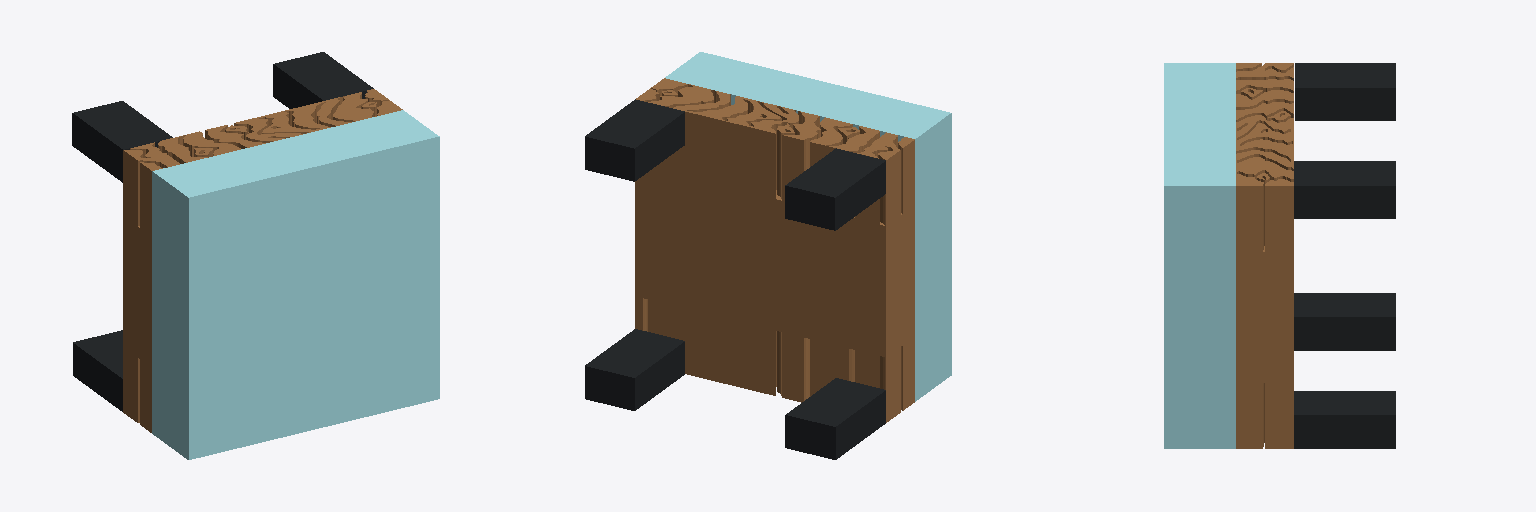
File: tinker.obj
The picture shows the model from 3 angles: view 1: azimuth 30°, elevation 25°; view 2: azimuth 150°, elevation 25°; view 3: azimuth 270°, elevation 25°; orthographic projection.
Parts seen in each view (by area): view 1: obj_0; view 2: obj_0; view 3: obj_0.
Part boxes in pixels (left/top/right/bottom): obj_0: left=72, top=52, right=439, bottom=459; obj_0: left=585, top=52, right=951, bottom=459; obj_0: left=1164, top=63, right=1395, bottom=448.
Size of the model in its own units: 20 by 20 by 16.01.